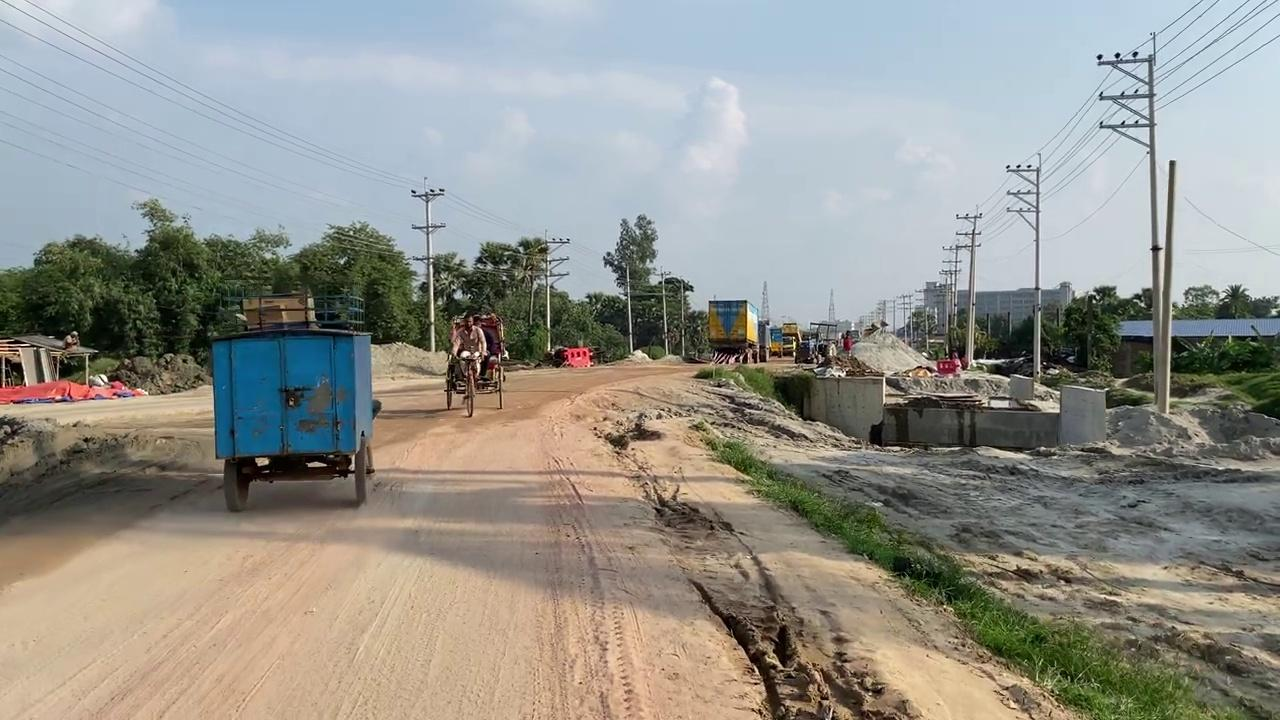Pole: (1120, 53, 1190, 424)
Railroad-crossing: (444, 313, 514, 401)
Rickshaw: (552, 376, 1076, 718)
Traffic-sign: (585, 209, 641, 350)
Tree: (126, 265, 409, 547), (762, 318, 782, 351), (748, 323, 765, 353)
